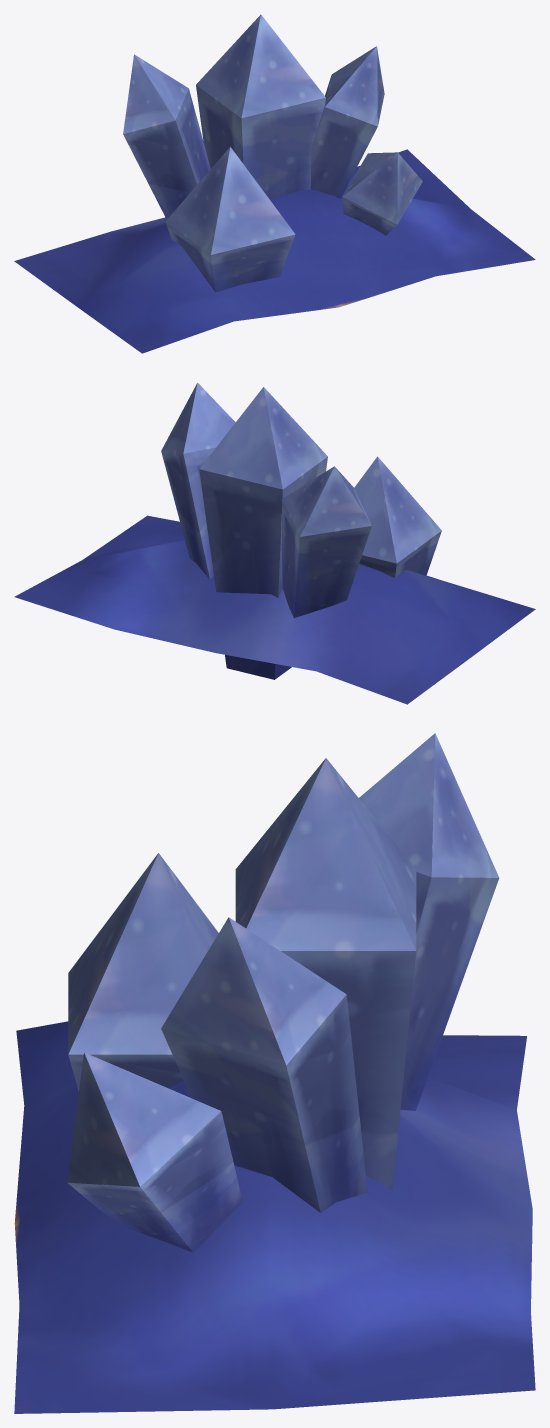
File: ChestALootB.FBX
The picture shows the model from 3 angles, top to bottom: view 1: azimuth 30°, elevation 25°; view 2: azimuth 150°, elevation 25°; view 3: azimuth 270°, elevation 25°; orthographic projection. The views are drawn at different scales.
Parts seen in each view (by area): view 1: chestALootB; view 2: chestALootB; view 3: chestALootB.
Boxes of the visible parts, x1=… form: chestALootB: x1=14, y1=14, x2=535, y2=353; chestALootB: x1=14, y1=382, x2=535, y2=704; chestALootB: x1=14, y1=733, x2=535, y2=1413.
Bounding box in the file's own units: 99.34 × 67.28 × 57.18.
